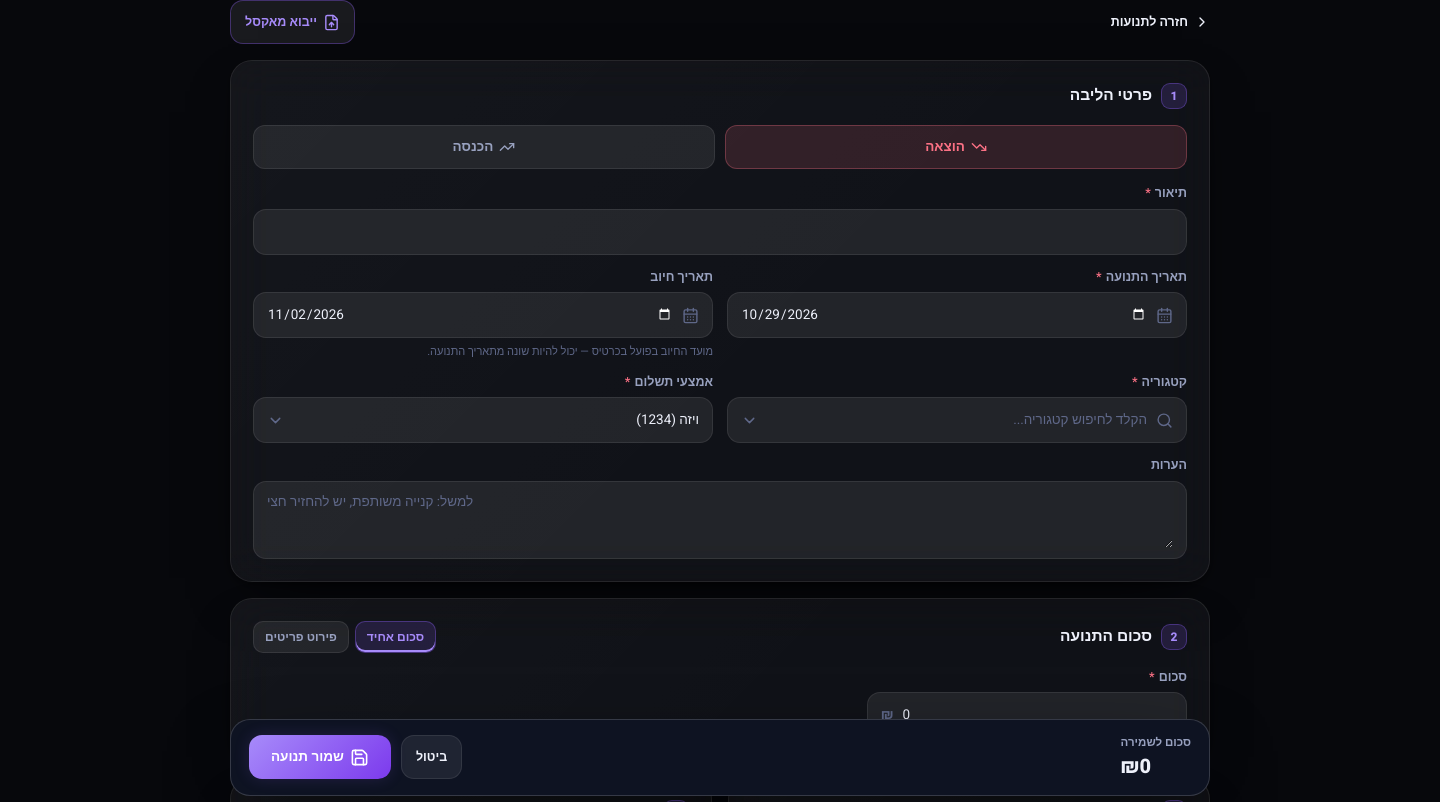
Test case: AddTransaction characterization › switches between direct and itemized amount modes without submitting the form
The width and height of the screenshot is (1440, 802).
Expected: the dropdown labelled "אמצעי תשלום *" shows "ויזה (1234)", [293,410,699,431]
Expected: the number field labelled "סכום *" is shown, [903,705,1173,726]
Click the radio button labelled "פירוט פריטים" at point(301, 637), box [253,621,349,653]
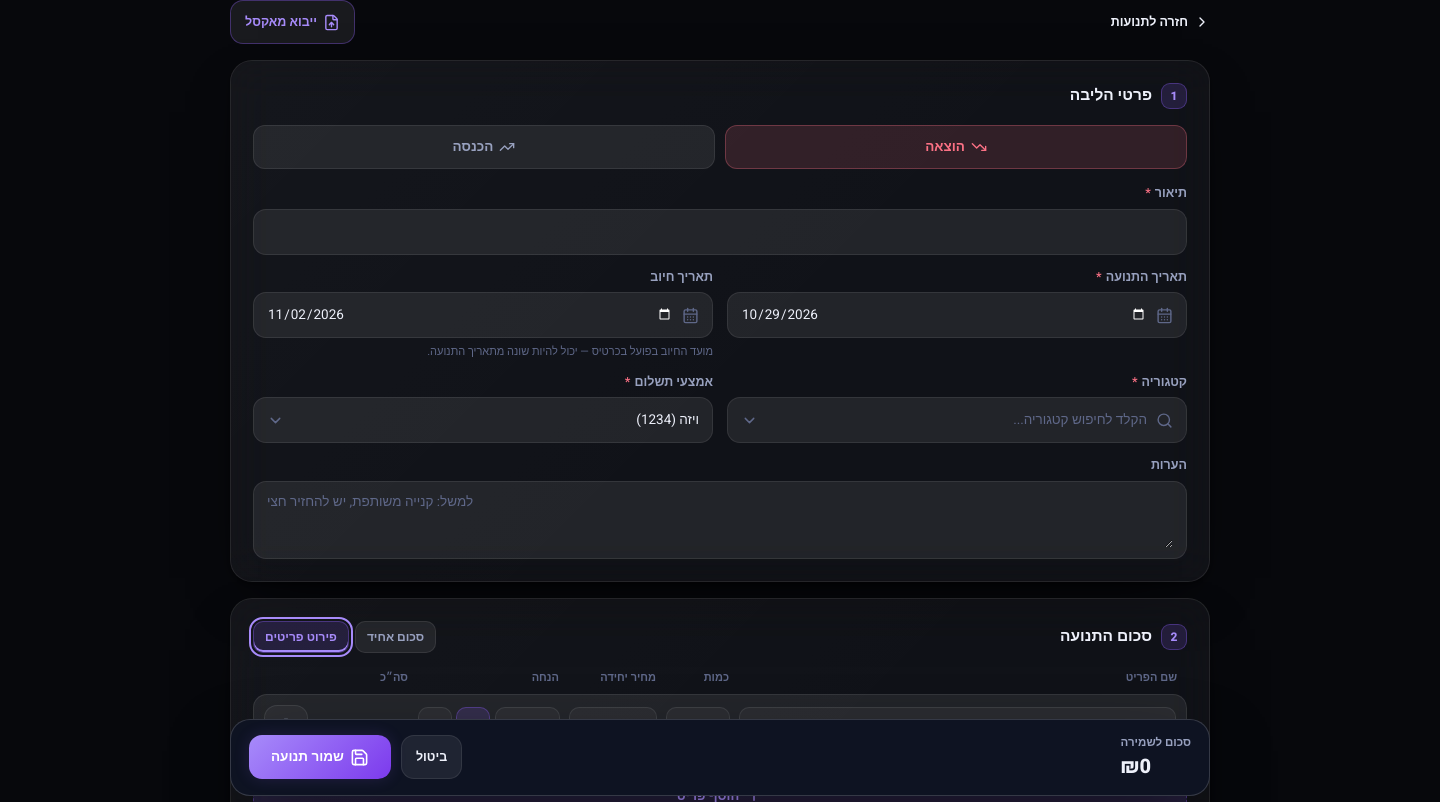
Expected: the field labelled "שם הפריט" is shown, [750,717,1165,737]
Click the radio button labelled "סכום אחיד" at point(396, 637), box [355,621,436,653]
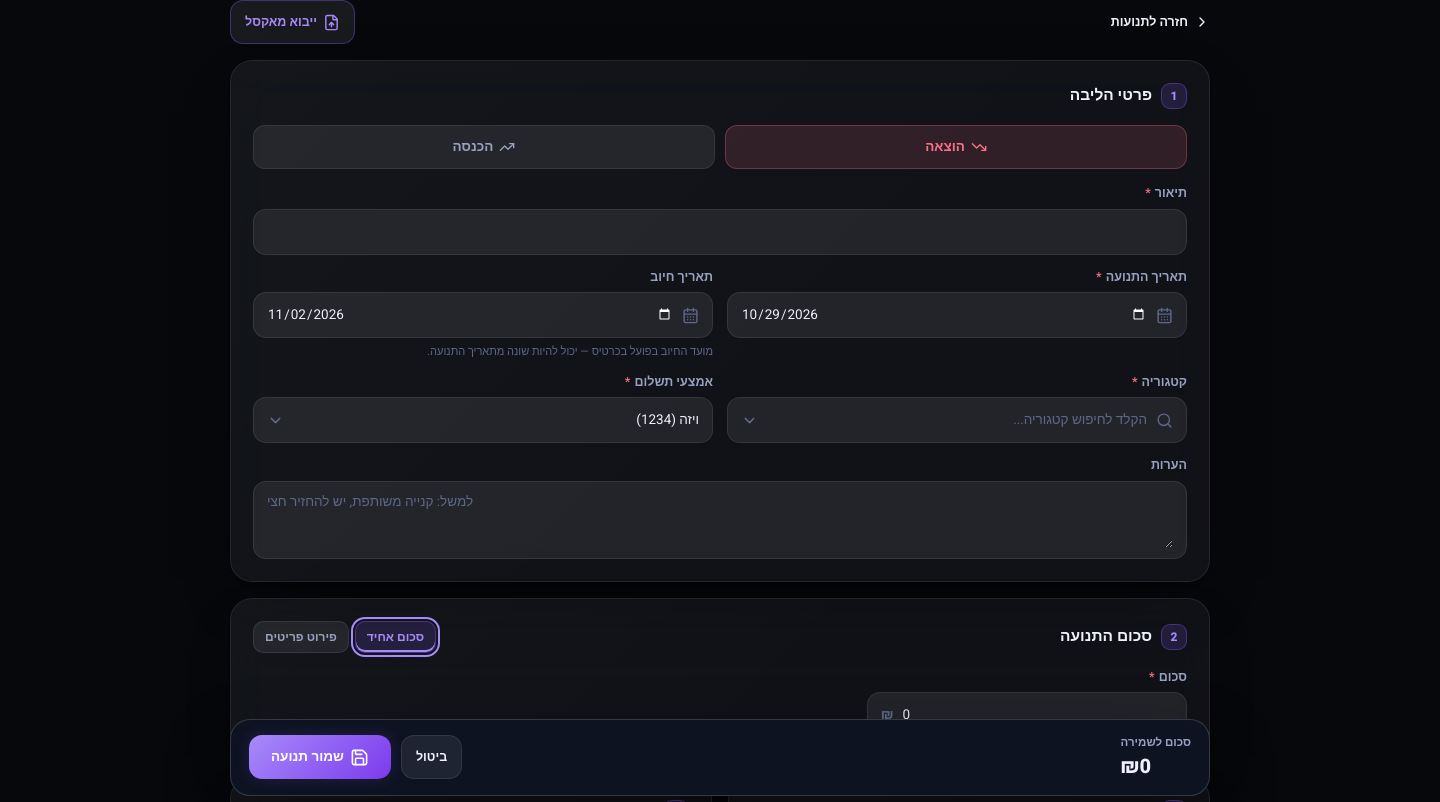
Expected: the number field labelled "סכום *" is shown, [903,705,1173,726]
Expected: the text "שם הפריט" is gone
